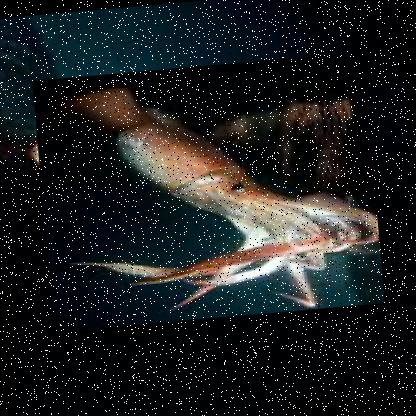colossal_squid: (32, 50, 386, 331)
